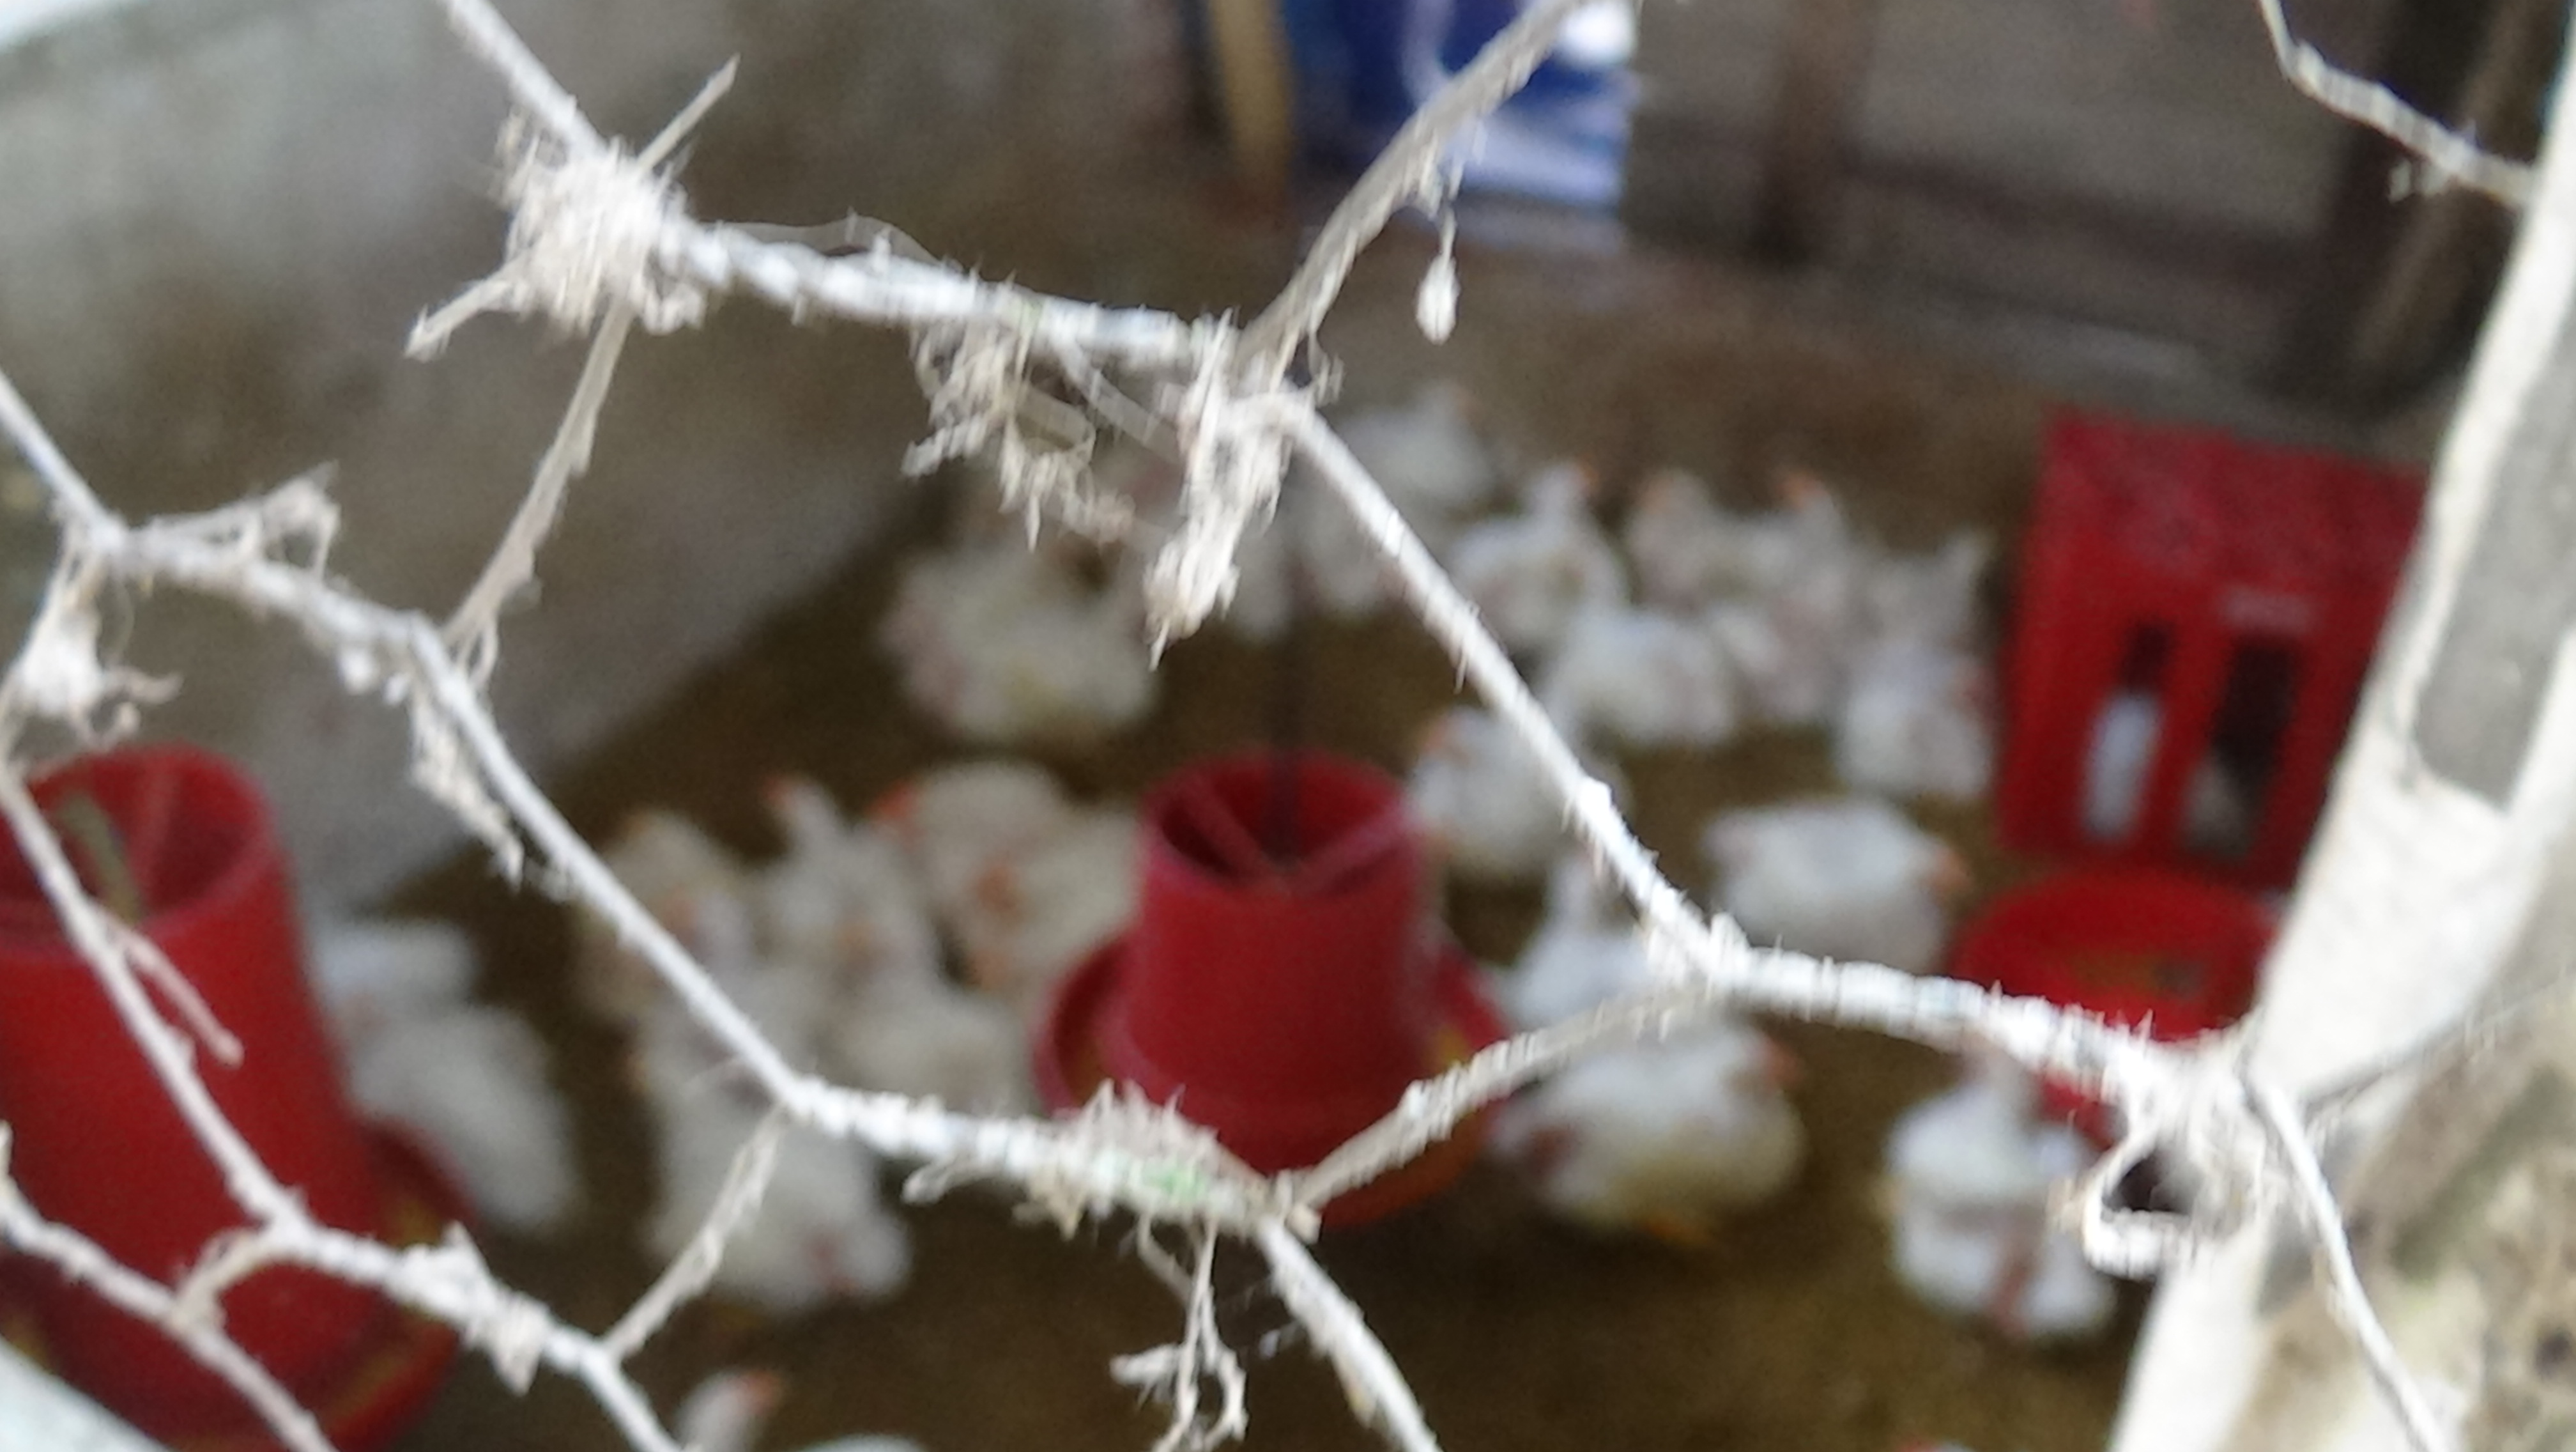Pollos: (1888, 999, 2173, 1337), (612, 1029, 892, 1305), (1523, 1008, 1838, 1227), (1723, 786, 1983, 993), (552, 790, 759, 953), (1847, 616, 2006, 793), (874, 742, 1076, 875), (1472, 448, 1619, 620), (1352, 331, 1491, 494), (1626, 459, 1755, 606), (1870, 512, 2026, 630), (759, 753, 867, 898), (1743, 446, 1851, 547)
